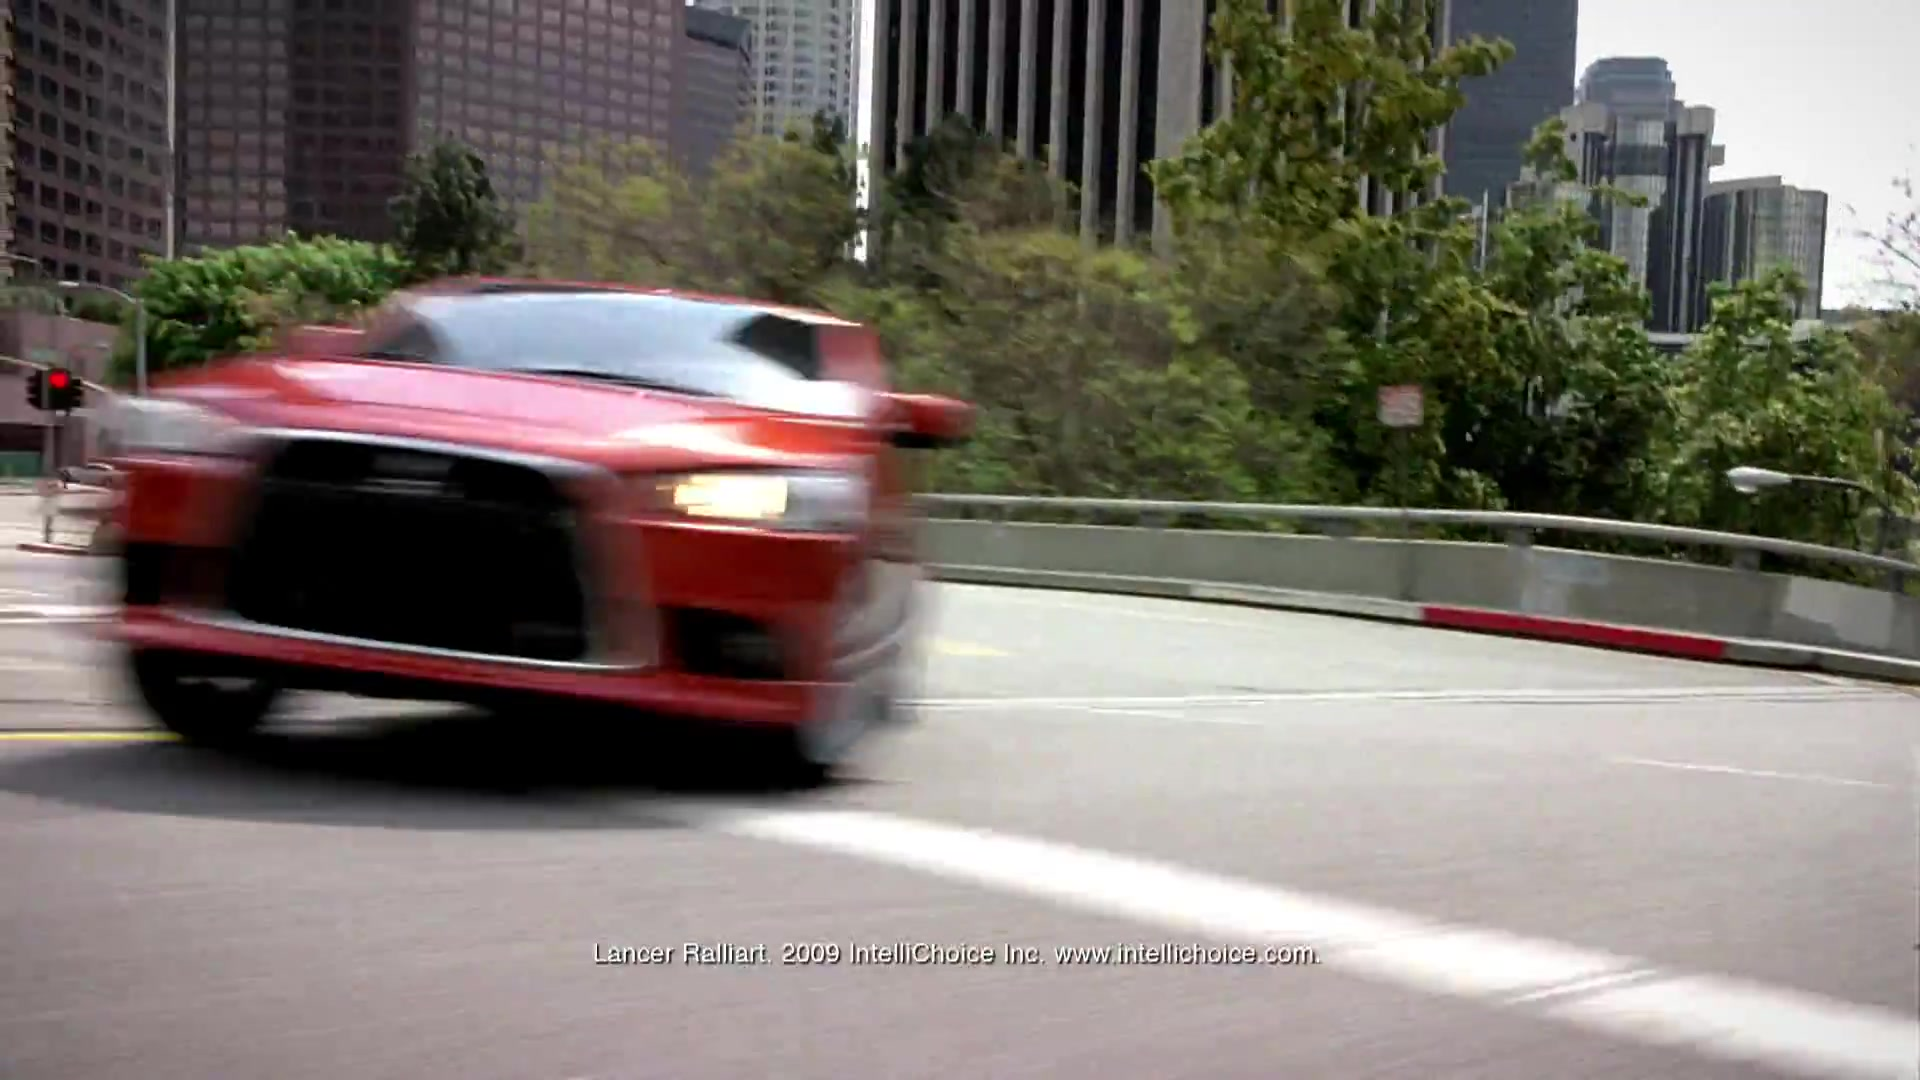car: (102, 247, 976, 775)
